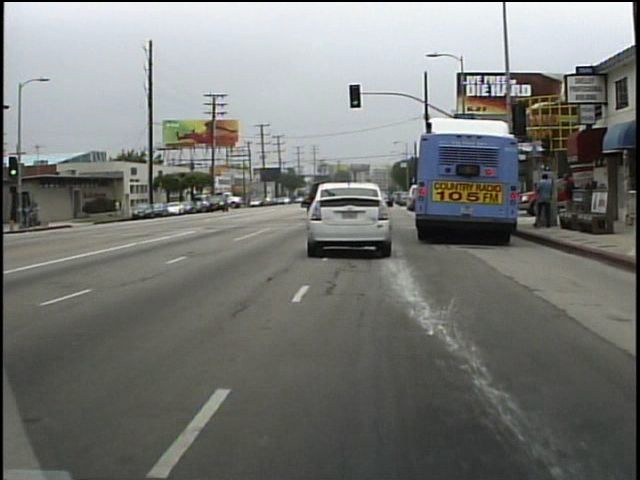person: (529, 170, 554, 233), (111, 195, 123, 218)
